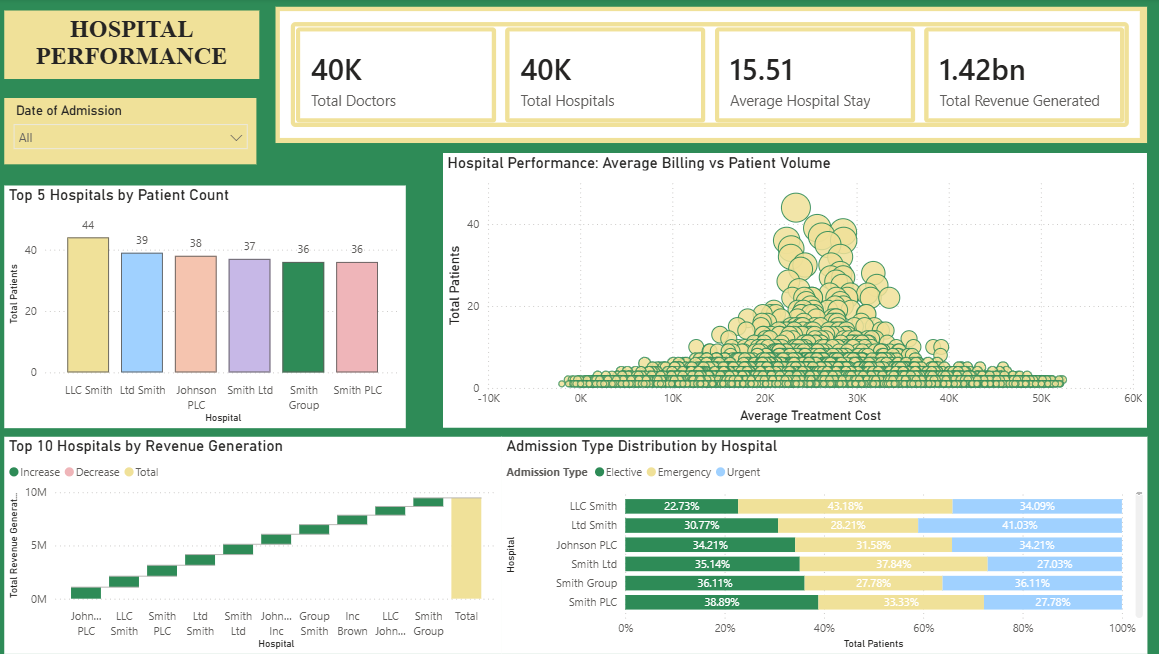

What the dashboard file says about the page in this screenshot:
{"tool":"powerbi","page":{"name":"Page 5","canvas":[1280,720],"ordinal":4},"visuals":[{"type":"textbox","box":[12.3,13.7,279.9,75.5],"z":0},{"type":"cardVisual","fields":{"Data":["All Measures.Total Doctors","All Measures.Total Hospitals","All Measures.Average Stay","All Measures.Total Revenue Generated"]},"box":[310.1,9.6,956.4,149.6],"z":1000},{"type":"slicer","fields":{"Values":["Healthcare data.Date of Admission"]},"box":[12.3,109.8,277.2,72.7],"z":2000},{"type":"clusteredColumnChart","title":"Top 5 Hospitals by Patient Count","fields":{"Category":["Healthcare data.Hospital"],"Y":["All Measures.Total Patients"]},"box":[12.3,205.8,440.5,266.2],"z":3000},{"type":"scatterChart","title":"Hospital Performance: Average Billing vs Patient Volume","fields":{"X":["All Measures.Average Treatment Cost"],"Y":["All Measures.Total Patients"],"Category":["Healthcare data.Hospital"],"Size":["All Measures.Total Patients"]},"box":[494,170.2,772.6,301.9],"z":4000},{"type":"waterfallChart","title":"Top 10 Hospitals by Revenue Generation","fields":{"Category":["Healthcare data.Hospital"],"Y":["All Measures.Total Revenue Generated"]},"box":[12.3,481.6,546.1,238.8],"z":5000},{"type":"hundredPercentStackedBarChart","title":"Admission Type Distribution by Hospital","fields":{"Category":["Healthcare data.Hospital"],"Y":["All Measures.Total Patients"],"Series":["Healthcare data.Admission Type"]},"box":[558,482,709,238],"z":6000}]}

Visuals, with their boxes in screenshot pixels (x1, y1, x2, y2), scaled from the page's 1280x720 canvas onto the 1159x654 screenshot:
textbox: BBox(11, 12, 265, 81)
cardVisual - All Measures.Total Doctors x All Measures.Total Hospitals: BBox(281, 9, 1147, 145)
slicer - Healthcare data.Date of Admission: BBox(11, 100, 262, 166)
"Top 5 Hospitals by Patient Count" clusteredColumnChart: BBox(11, 187, 410, 429)
"Hospital Performance: Average Billing vs Patient Volume" scatterChart: BBox(447, 155, 1147, 429)
"Top 10 Hospitals by Revenue Generation" waterfallChart: BBox(11, 437, 506, 653)
"Admission Type Distribution by Hospital" hundredPercentStackedBarChart: BBox(505, 438, 1147, 653)
